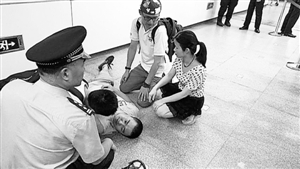fall: (71, 55, 143, 134)
